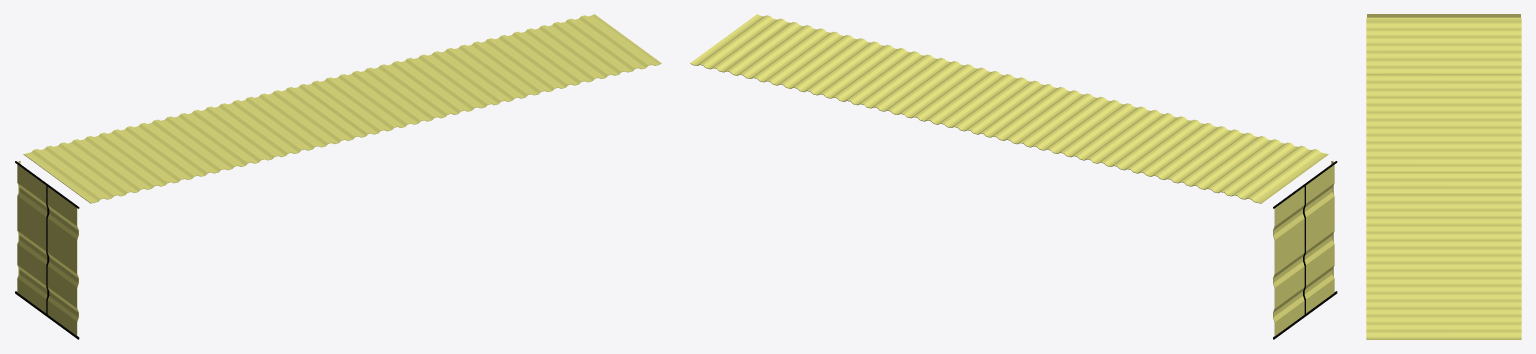
File: rear-top-sprayfoam.glb
3 views of the same model, side by side, from view 1: azimuth 30°, elevation 25°; view 2: azimuth 150°, elevation 25°; view 3: azimuth 270°, elevation 25° (orthographic). The views are drawn at different scales.
Visible parts, largest first — view 1: 40FT HC Sprayfoam_Ceiling, 40FT HC Sprayfoam_RearTop; view 2: 40FT HC Sprayfoam_Ceiling, 40FT HC Sprayfoam_RearTop; view 3: 40FT HC Sprayfoam_Ceiling, 40FT HC Sprayfoam_RearTop.
Part boxes in pixels (x1,y1,x2,y2): 40FT HC Sprayfoam_Ceiling: [23, 14, 661, 203]; 40FT HC Sprayfoam_RearTop: [15, 161, 79, 339]; 40FT HC Sprayfoam_Ceiling: [690, 14, 1328, 203]; 40FT HC Sprayfoam_RearTop: [1273, 161, 1337, 339]; 40FT HC Sprayfoam_Ceiling: [1366, 17, 1521, 339]; 40FT HC Sprayfoam_RearTop: [1367, 14, 1520, 17].
Size of the model in its own units: 11.86 by 2.68 by 2.37.
